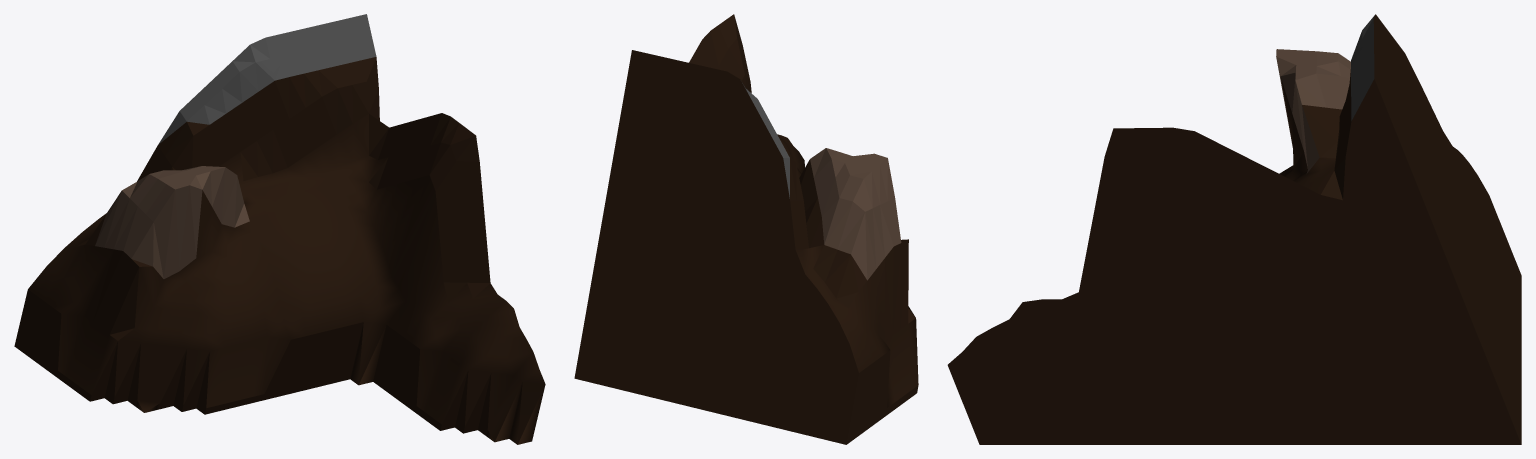
The model's file is ixm_cover_267.glb.
The picture shows the model from 3 angles, left to right: view 1: azimuth 30°, elevation 25°; view 2: azimuth 150°, elevation 25°; view 3: azimuth 270°, elevation 25°; orthographic projection. The views are drawn at different scales.
Visible parts, largest first — view 1: ixm_cover_267; view 2: ixm_cover_267; view 3: ixm_cover_267.
Part boxes in pixels (bbox=[...]): ixm_cover_267: bbox=[14, 14, 545, 444]; ixm_cover_267: bbox=[574, 14, 918, 444]; ixm_cover_267: bbox=[947, 14, 1521, 444].
Size of the model in its own units: 10 by 10.11 by 14.3.
